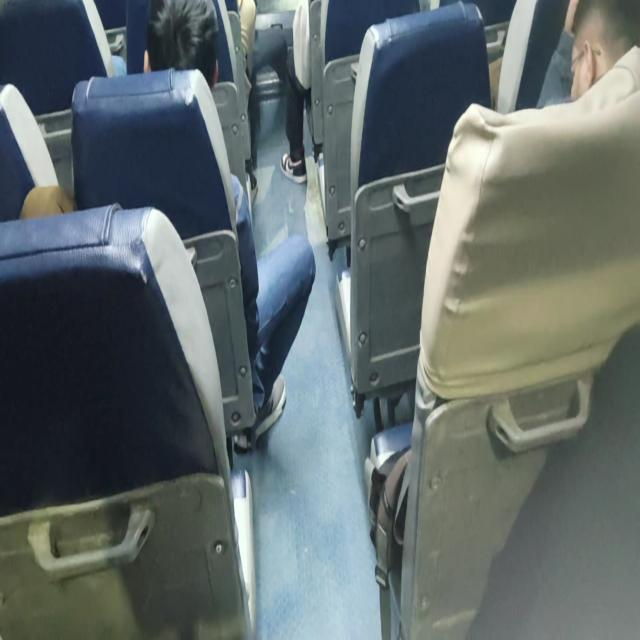person: (558, 0, 640, 109), (144, 0, 223, 90)
